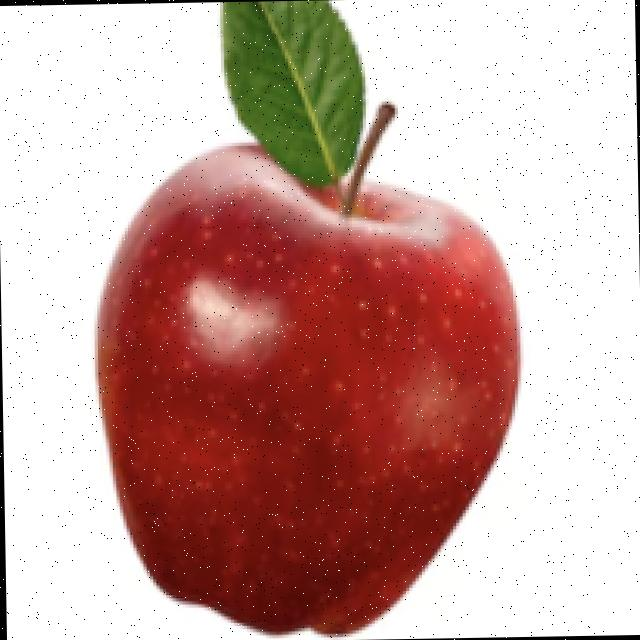apple: (90, 0, 526, 638)
